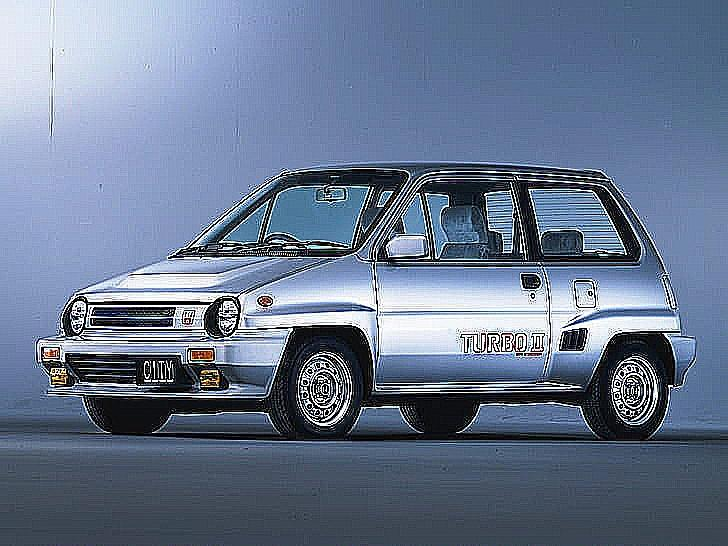Car hood: (75, 249, 351, 307)
Fender - -R-L-: (238, 254, 390, 417)
Front bumper: (37, 322, 292, 405)
Headlight - -L-: (200, 282, 252, 349)
Headlight - -R-: (49, 287, 101, 345)
Passenger-s door - -F-L-: (374, 162, 560, 381)
Rear bumper: (658, 304, 702, 394)
Side bumper - -L-: (369, 374, 592, 412)
Side mirror - -L-: (377, 227, 441, 275)
